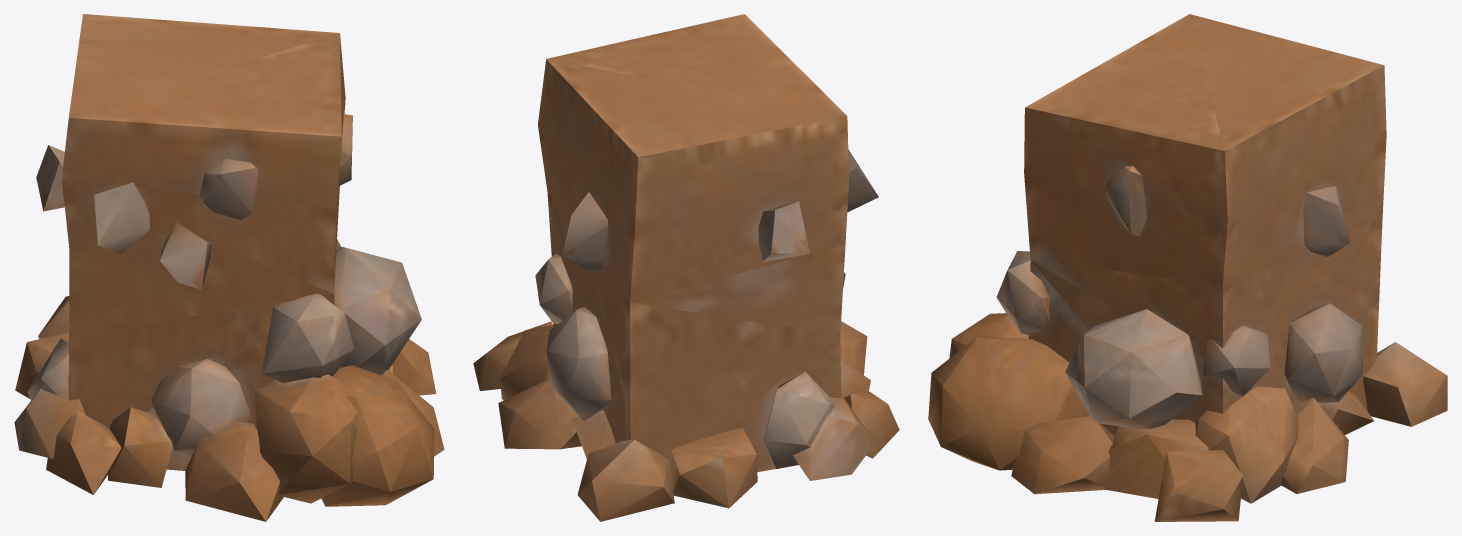
Rendered from bloque_tierra_0_500.glb.
The picture shows the model from 3 angles, left to right: view 1: azimuth 30°, elevation 25°; view 2: azimuth 150°, elevation 25°; view 3: azimuth 270°, elevation 25°; orthographic projection. The views are drawn at different scales.
Visible parts, largest first — view 1: bloque_tierra_0_malla; view 2: bloque_tierra_0_malla; view 3: bloque_tierra_0_malla.
Part boxes in pixels (x1,y1,x2,y2): bloque_tierra_0_malla: (14, 14, 444, 521); bloque_tierra_0_malla: (473, 14, 899, 521); bloque_tierra_0_malla: (928, 14, 1447, 521).
Bounding box in the file's own units: 0.2395 × 0.2106 × 0.2814.
1 material, 1 textured.
